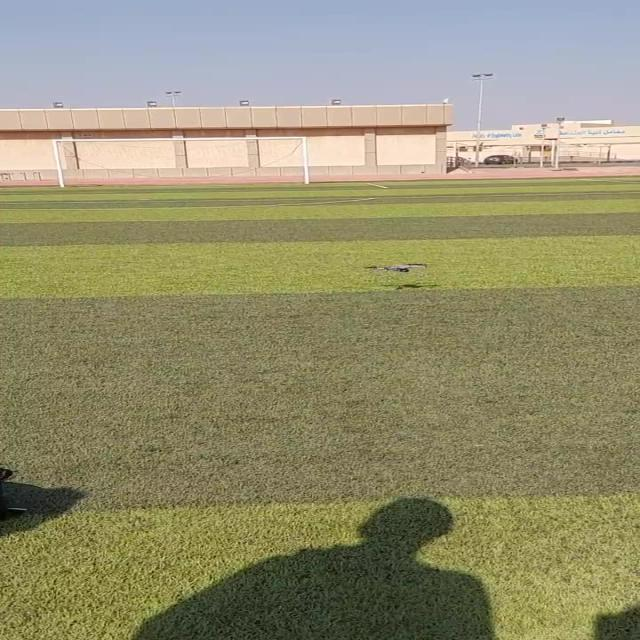drone: (354, 256, 431, 280)
